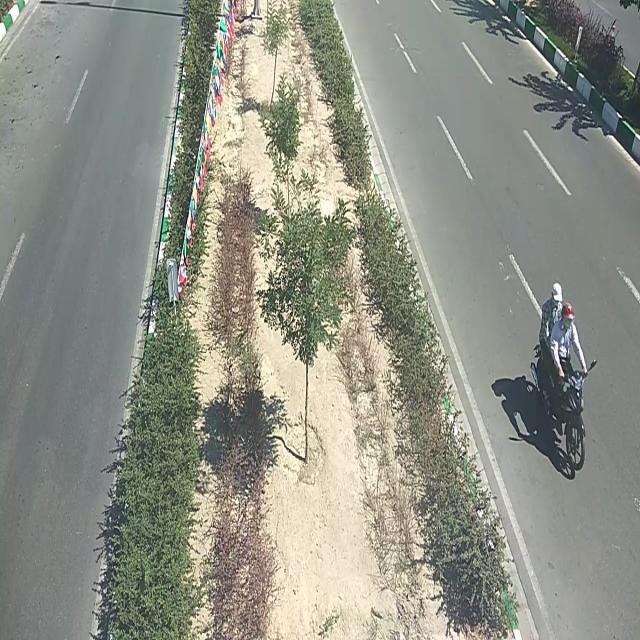motorbike: (528, 279, 594, 472)
